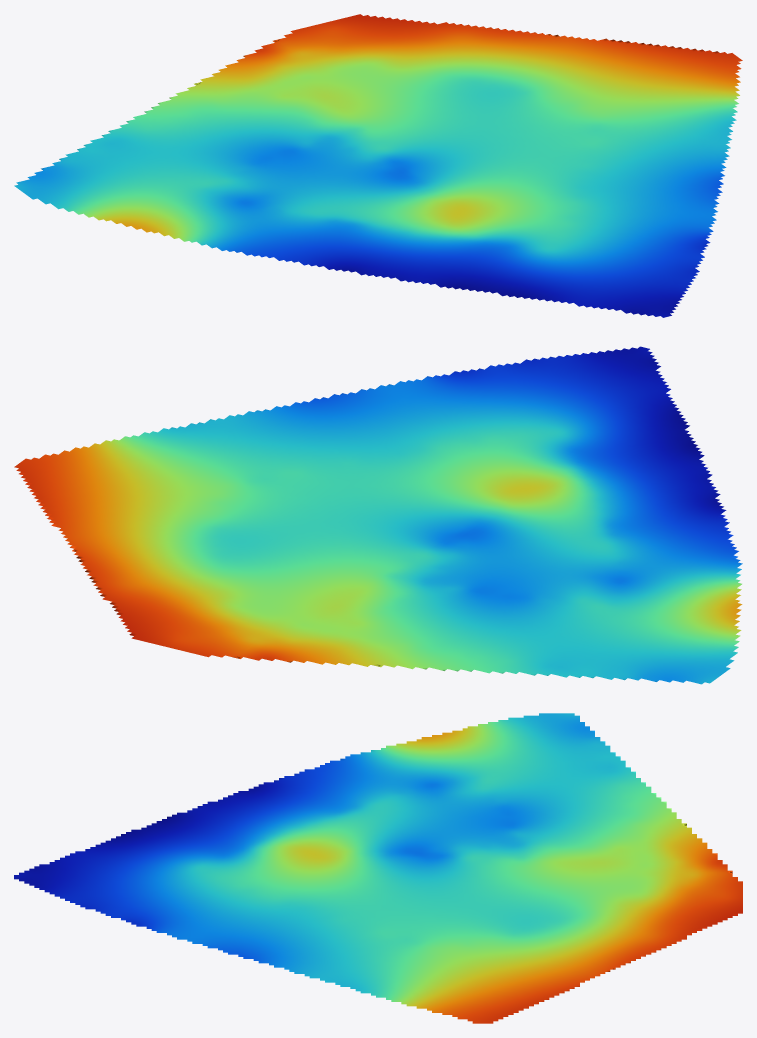
The model's file is salinity.gltf.
3 renders of one model, top to bottom at view 1: azimuth 30°, elevation 25°; view 2: azimuth 150°, elevation 25°; view 3: azimuth 270°, elevation 25°, orthographic. The views are drawn at different scales.
Visible parts, largest first — view 1: salinity_kriging; view 2: salinity_kriging; view 3: salinity_kriging.
Part boxes in pixels (left/top/right/bottom): salinity_kriging: left=14, top=14, right=742, bottom=317; salinity_kriging: left=14, top=346, right=742, bottom=684; salinity_kriging: left=14, top=713, right=742, bottom=1023.
Size of the model in its own units: 648 by 0.0344 by 644.
1 material, 1 textured.
